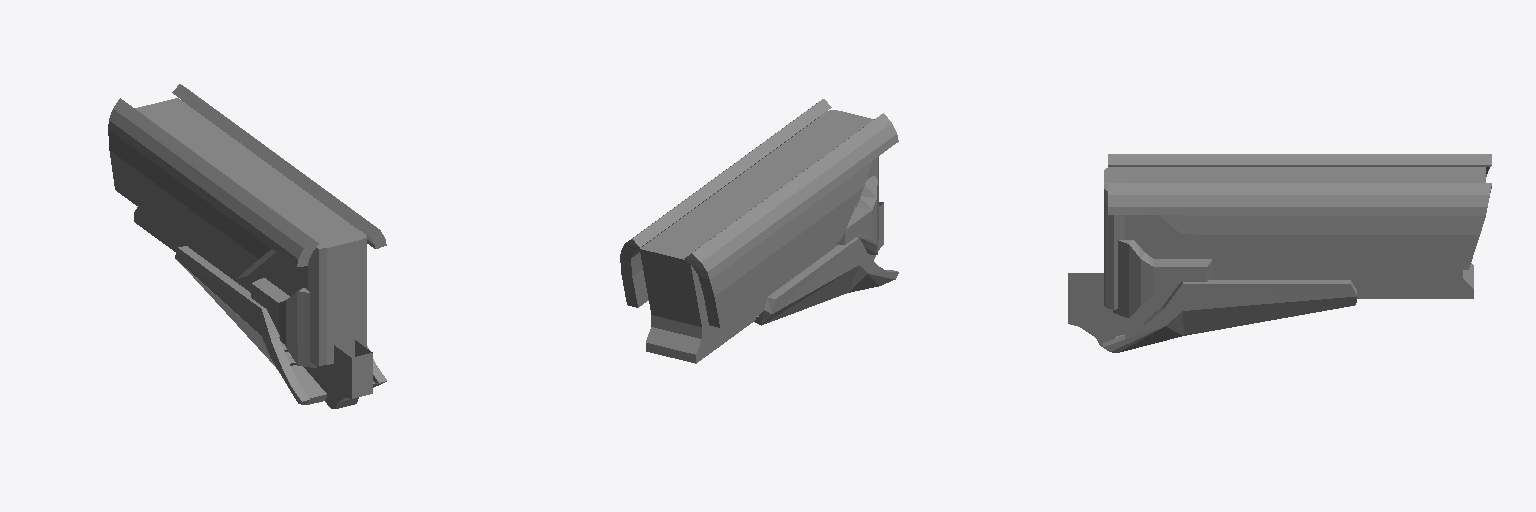
File: barrel3.obj
The picture shows the model from 3 angles: view 1: azimuth 30°, elevation 25°; view 2: azimuth 150°, elevation 25°; view 3: azimuth 270°, elevation 25°; orthographic projection.
Visible parts, largest first — view 1: barrel3; view 2: barrel3; view 3: barrel3.
Boxes of the visible parts, <box> form: barrel3: <box>108,84,386,408</box>; barrel3: <box>620,99,898,363</box>; barrel3: <box>1068,154,1491,352</box>.
Size of the model in its own units: 4.37 by 7.84 by 17.18.